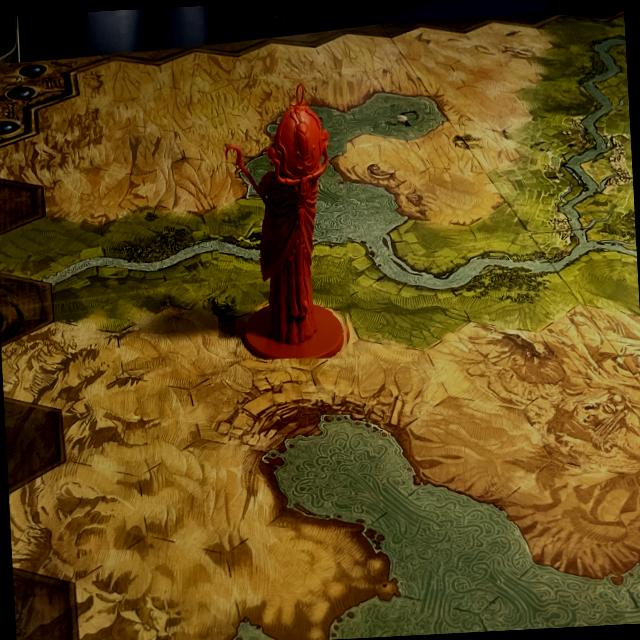amon: (207, 74, 357, 363)
